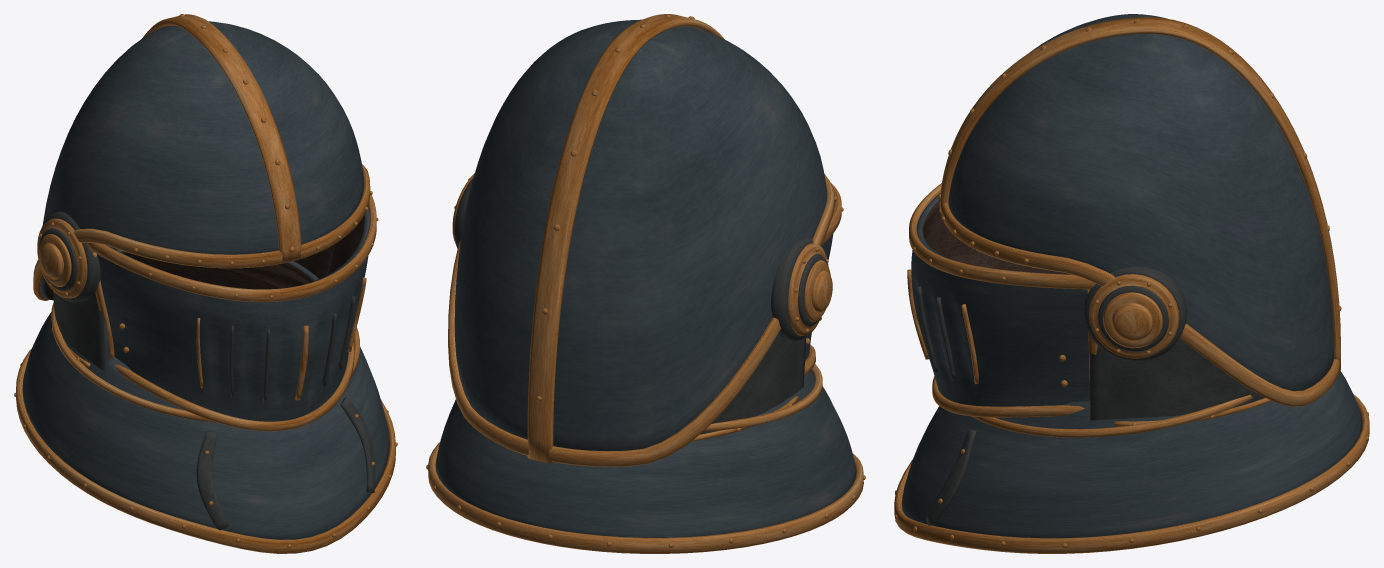
3 views of the same model, side by side, from view 1: azimuth 30°, elevation 25°; view 2: azimuth 150°, elevation 25°; view 3: azimuth 270°, elevation 25° (orthographic). The views are drawn at different scales.
Parts seen in each view (by area): view 1: RoundedBrassHelmet; view 2: RoundedBrassHelmet; view 3: RoundedBrassHelmet.
Part boxes in pixels (x1,y1,x2,y2): RoundedBrassHelmet: (14,14,397,553); RoundedBrassHelmet: (426,14,865,553); RoundedBrassHelmet: (894,14,1369,553).
Bounding box in the file's own units: 0.2361 × 0.3166 × 0.275.
Materials: 1 (1 with a texture image).
